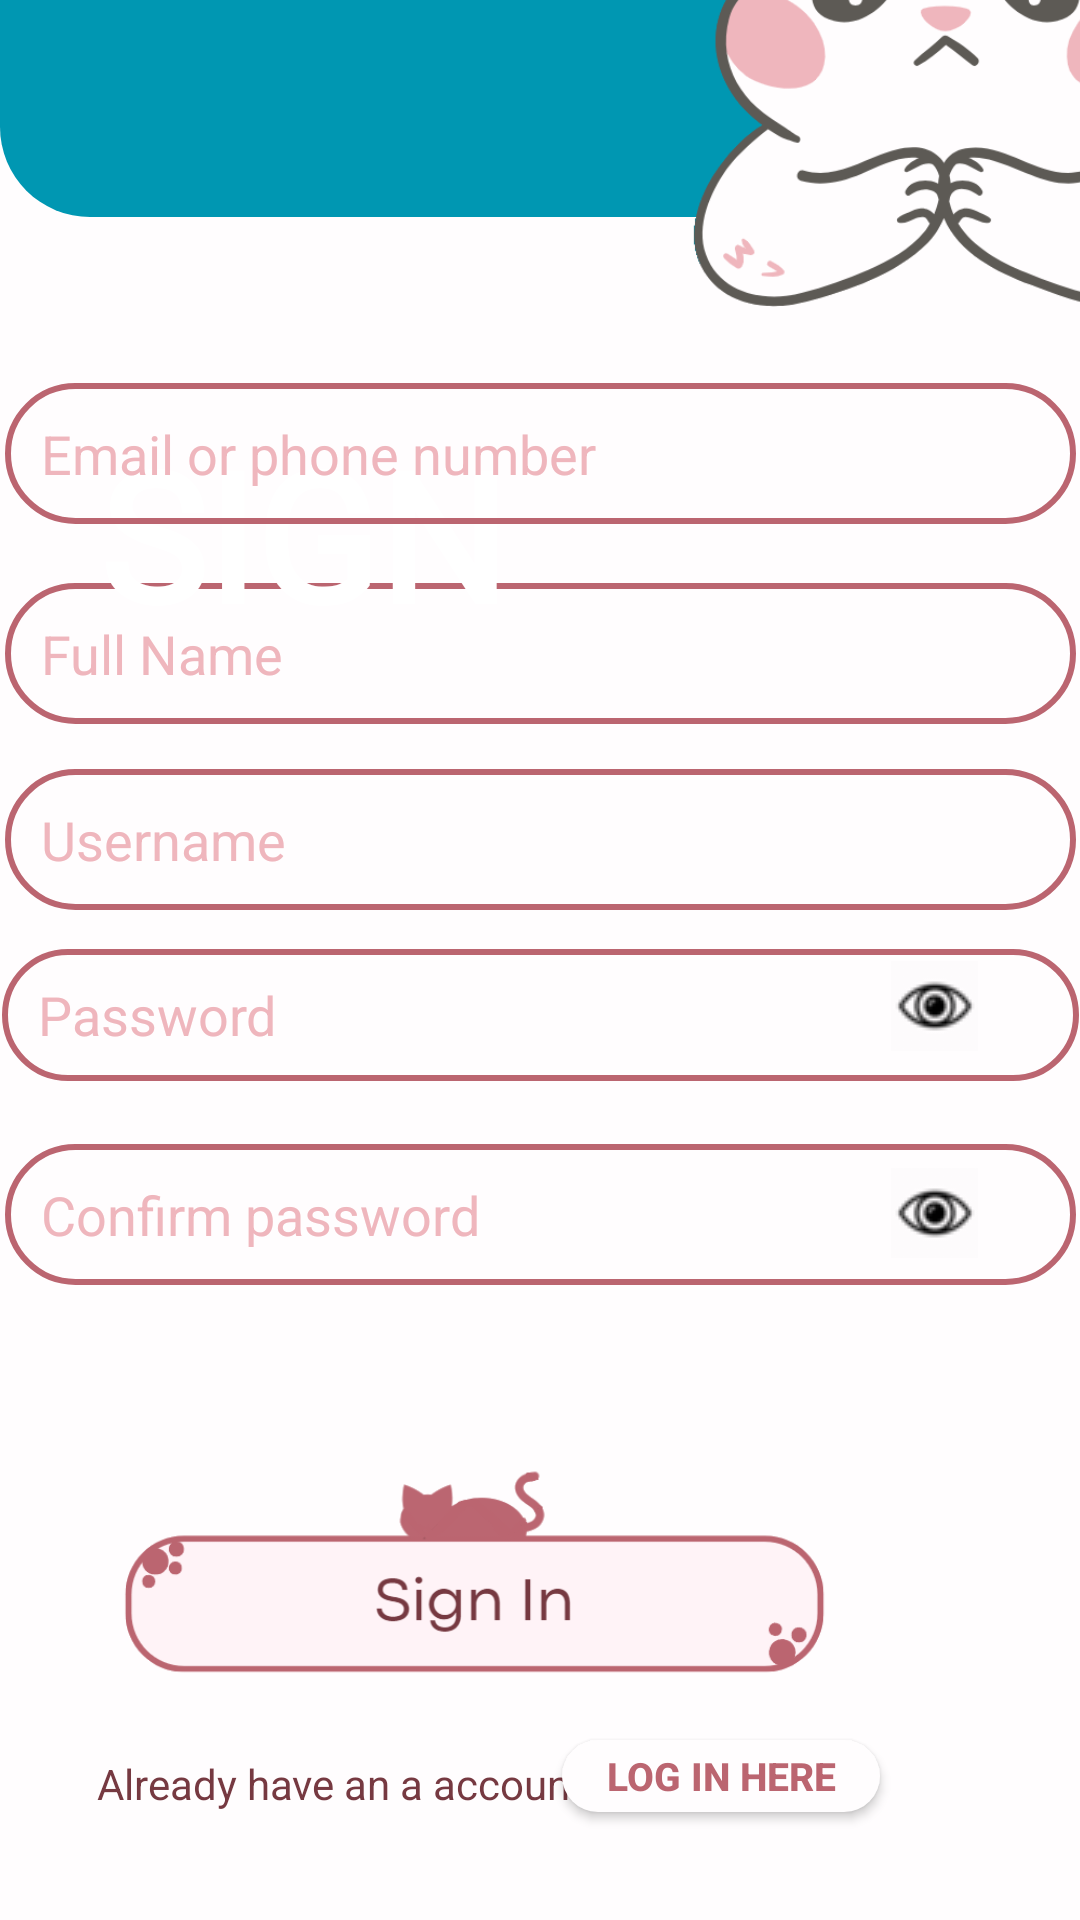

Named icons in this screenshot (1080w x 1920h) and their centers, (x,y):
show pwd: (935,1006), (935,1213)
